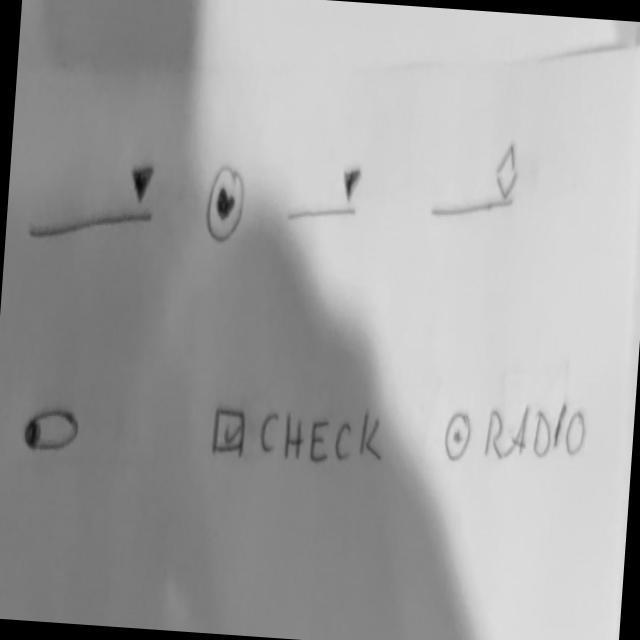checkbox: (210, 395, 389, 473)
icon-button: (203, 162, 249, 252)
number-input: (425, 133, 523, 232)
radio: (443, 409, 474, 466)
select: (26, 150, 161, 253), (284, 161, 365, 235)
toggle: (20, 402, 82, 461)
